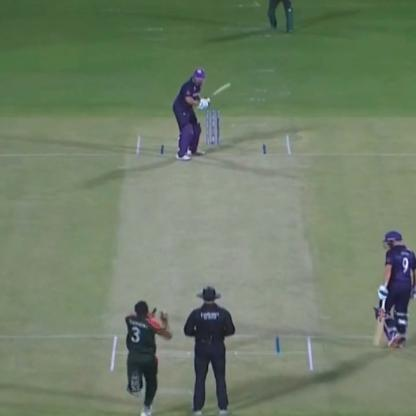pitch: (105, 137, 317, 375)
